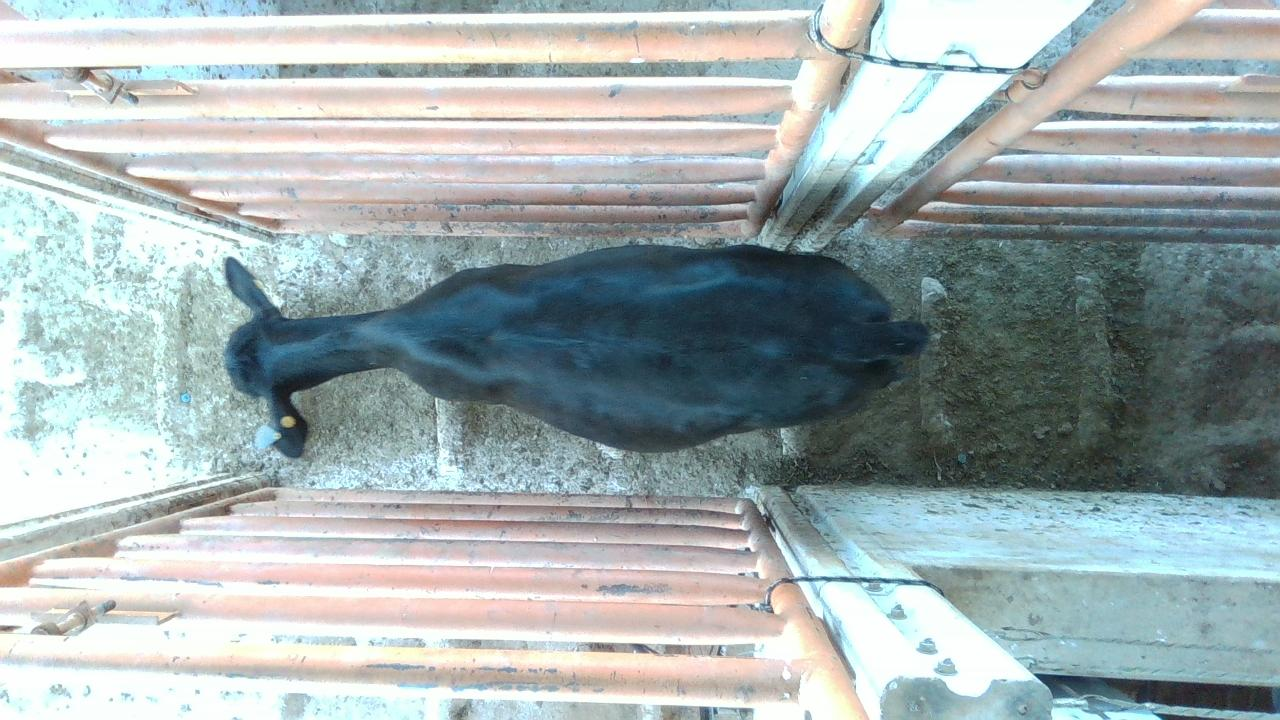cattle: (221, 241, 930, 458)
